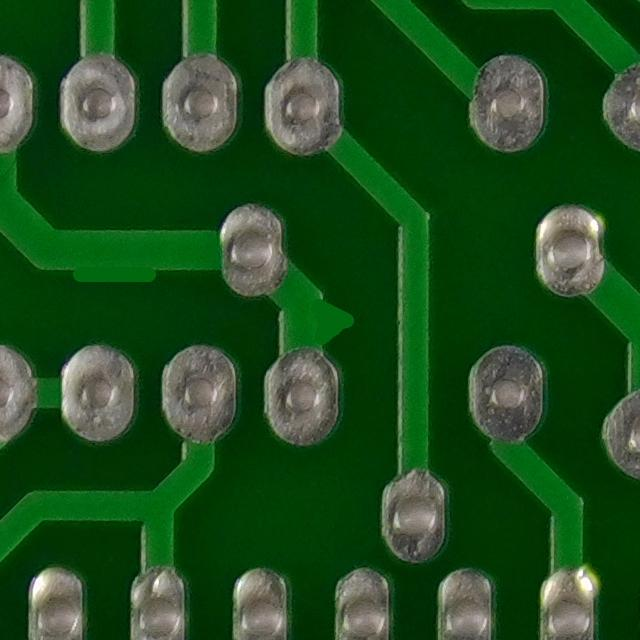spur: (272, 282, 369, 359)
